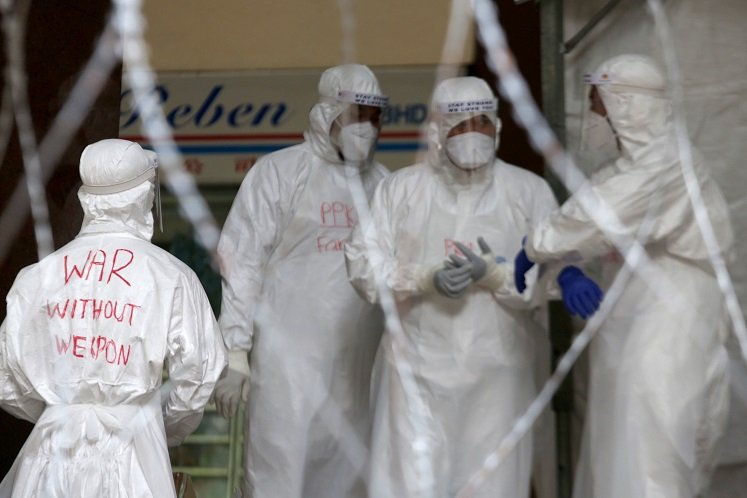Coverall: (345, 73, 579, 498), (533, 52, 747, 498), (1, 132, 237, 498), (208, 61, 405, 498)
Face_Shield: (436, 96, 500, 189), (328, 90, 393, 176), (575, 67, 625, 177)
Gloves: (438, 231, 509, 297), (553, 264, 604, 321), (417, 257, 476, 301), (513, 232, 542, 303)
with_mask: (329, 103, 382, 166), (444, 112, 496, 173), (579, 83, 614, 167)
